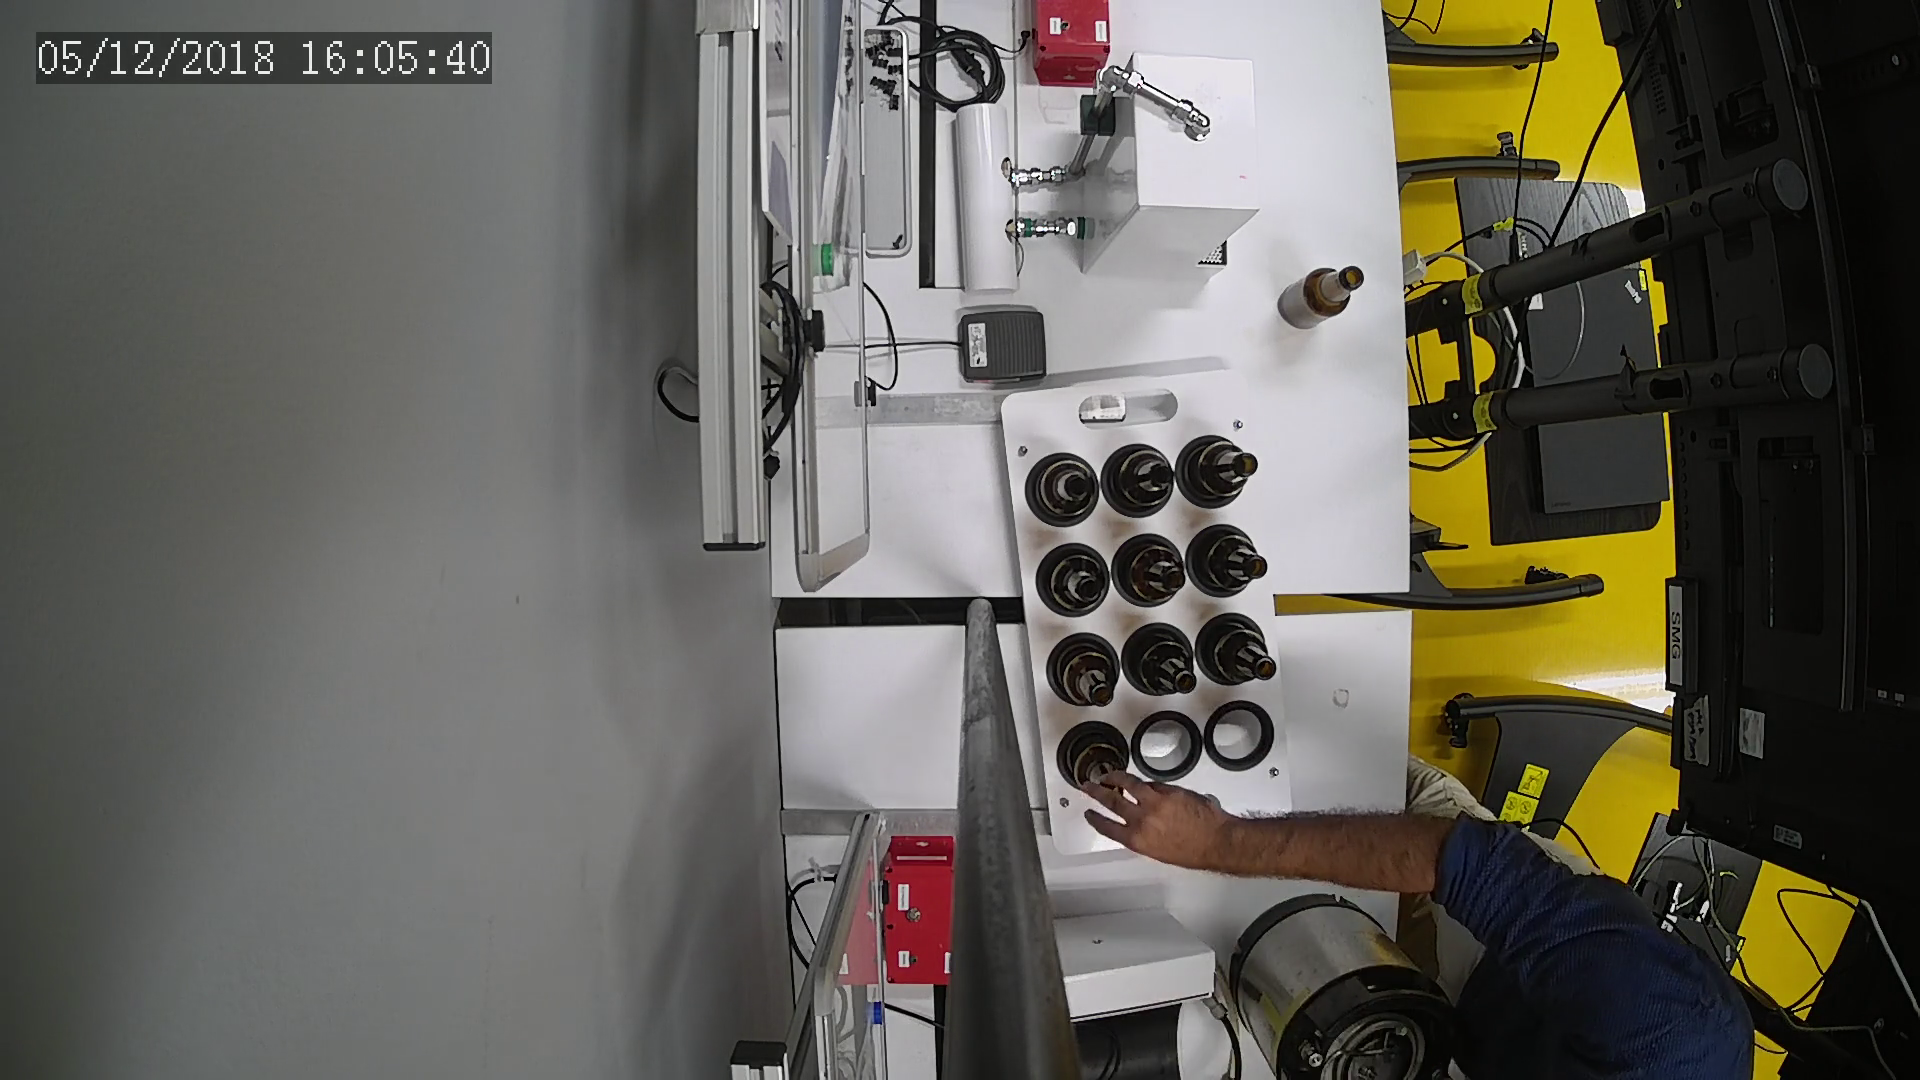filled_bottle: (1179, 513, 1274, 605), (1018, 444, 1110, 530), (1191, 605, 1283, 691), (1093, 436, 1182, 524), (1174, 430, 1262, 516), (1106, 526, 1193, 611), (1120, 618, 1204, 705), (1058, 723, 1137, 808), (1048, 628, 1127, 711), (1036, 541, 1114, 622)
trolley: (982, 363, 1304, 858)
unfilled_bottle: (1266, 265, 1374, 334)
